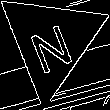N_NW: (25, 11, 77, 72)
